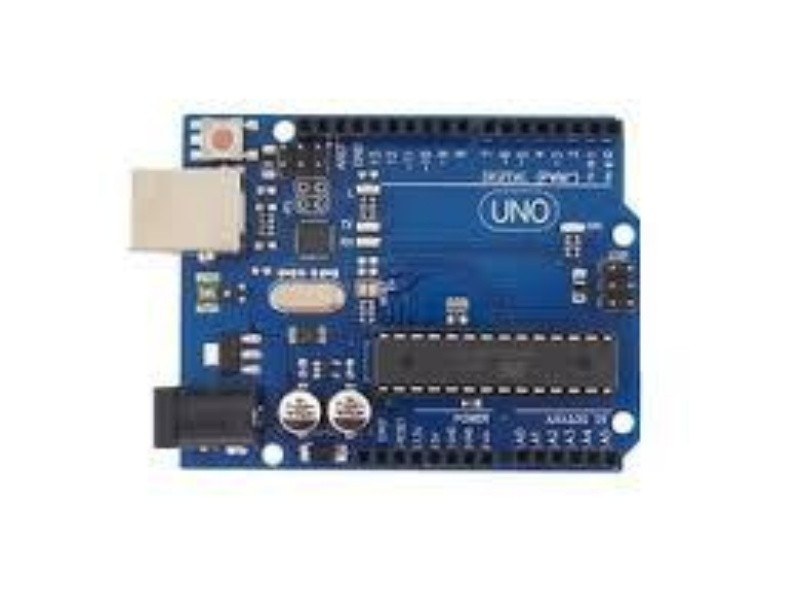uno: (128, 88, 644, 477)
